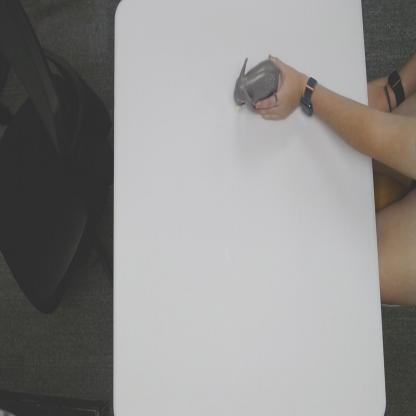Arm: (318, 81, 370, 155)
Elephant: (232, 56, 280, 112)
Hand: (254, 53, 298, 123)
